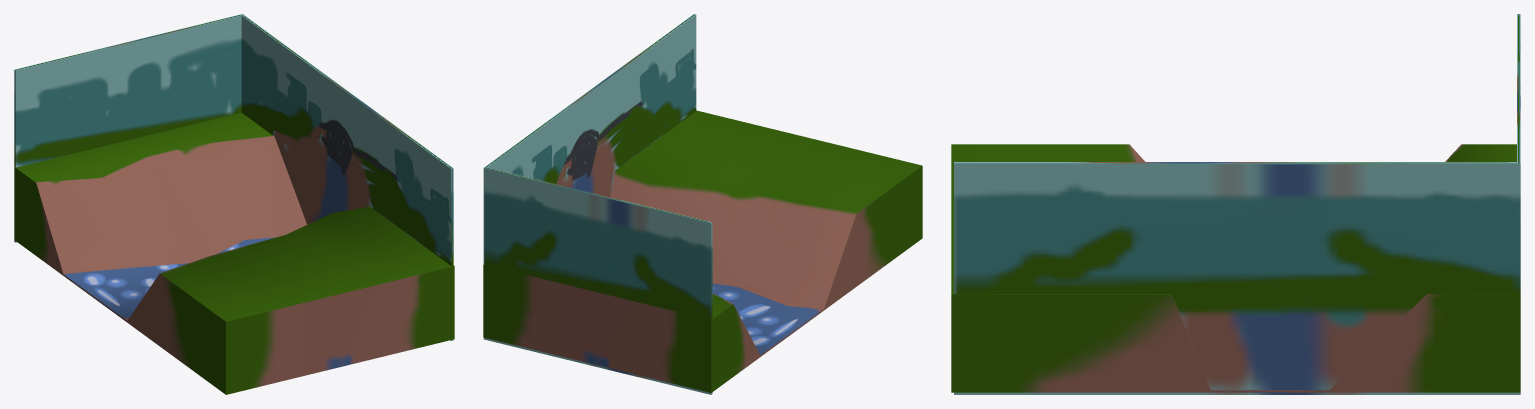
File: all areas3.FBX
The picture shows the model from 3 angles, left to right: view 1: azimuth 30°, elevation 25°; view 2: azimuth 150°, elevation 25°; view 3: azimuth 270°, elevation 25°; orthographic projection. The views are drawn at different scales.
Parts seen in each view (by area): view 1: riverbank; view 2: riverbank; view 3: riverbank.
Boxes of the visible parts, x1,y1,x2,y2 form: riverbank: (14, 14, 454, 394); riverbank: (483, 14, 922, 394); riverbank: (951, 14, 1520, 394).
Size of the model in its own units: 278 by 200 by 446.
Materials: 2 (2 with a texture image).
